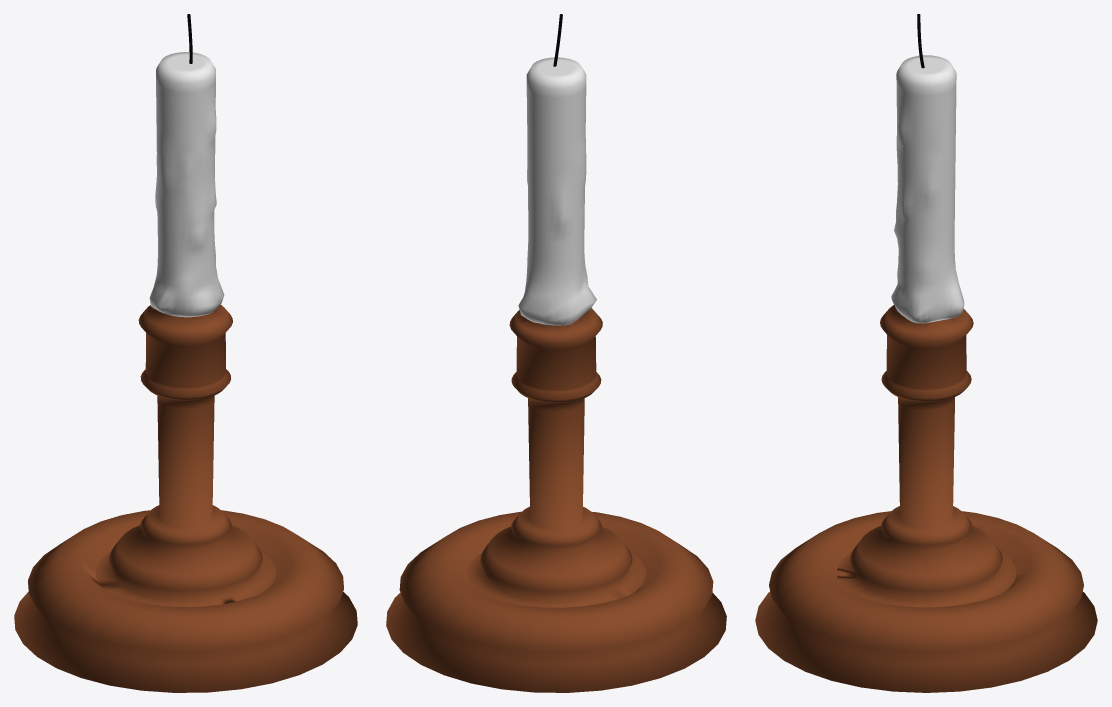
Rendered from bougie_v1.fbx.
3 renders of one model, left to right at view 1: azimuth 30°, elevation 25°; view 2: azimuth 150°, elevation 25°; view 3: azimuth 270°, elevation 25°, orthographic.
Visible parts, largest first — view 1: bougie; view 2: bougie; view 3: bougie.
Part boxes in pixels (x1=…): bougie: x1=14, y1=14, x2=357, y2=692; bougie: x1=386, y1=14, x2=726, y2=692; bougie: x1=755, y1=14, x2=1097, y2=692.
Bounding box in the file's own units: 64.04 × 125 × 64.04.
